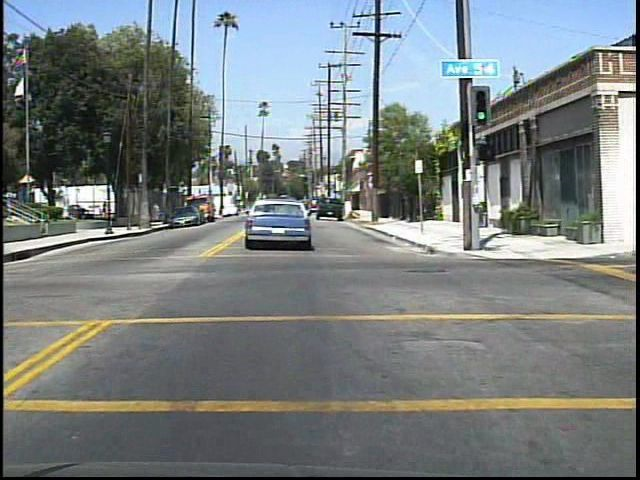person: (151, 202, 164, 228), (120, 195, 133, 218), (101, 198, 109, 220)
